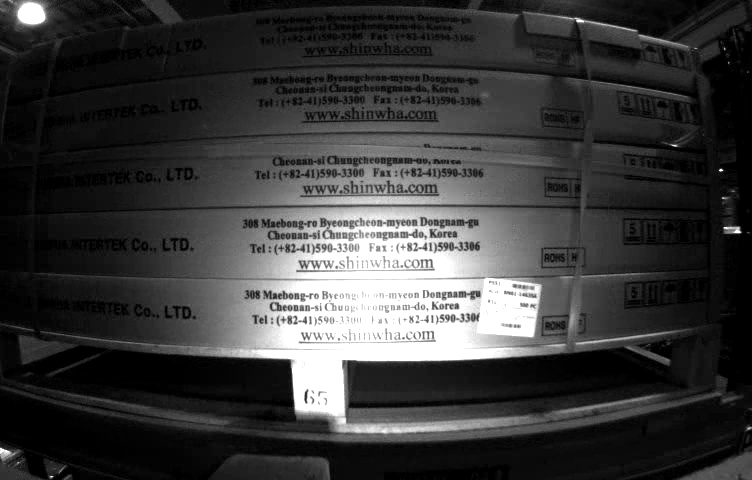True Barcode: (482, 275, 535, 341)
